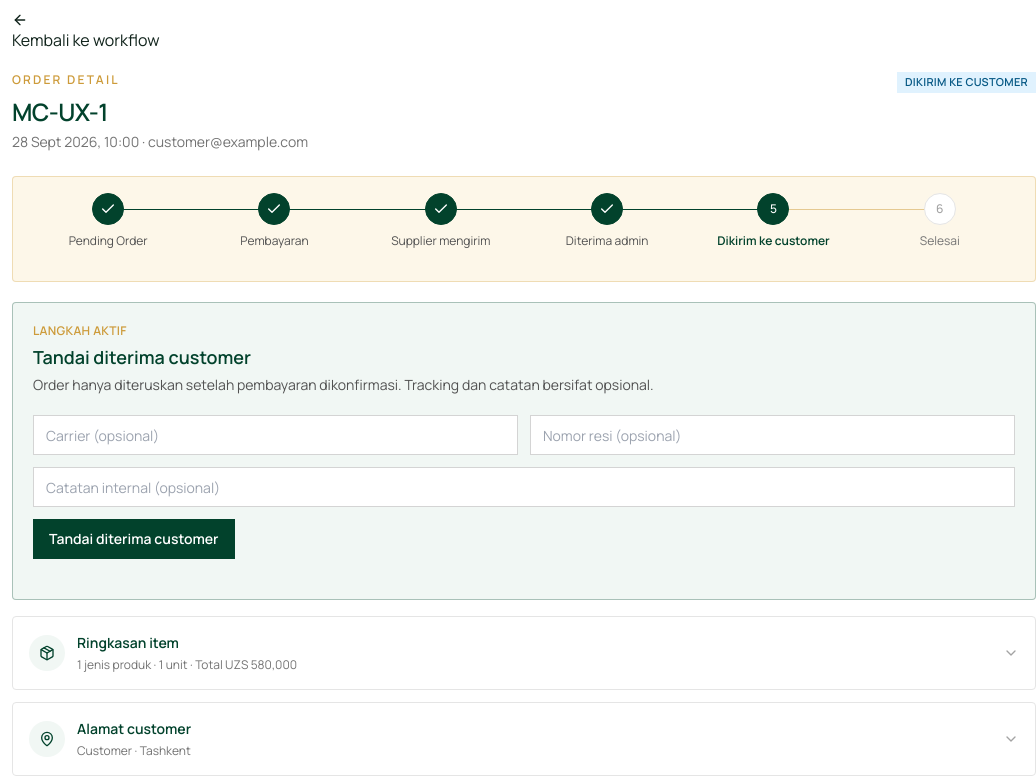
Scenario: customer delivery stays in its stage until receipt is confirmed
Expected: the list item "5 Dikirim ke customer" is shown, left=717, top=193, right=830, bottom=249
Step 1. Click the button "Tandai diterima customer" → (134, 539), box left=33, top=519, right=234, bottom=559
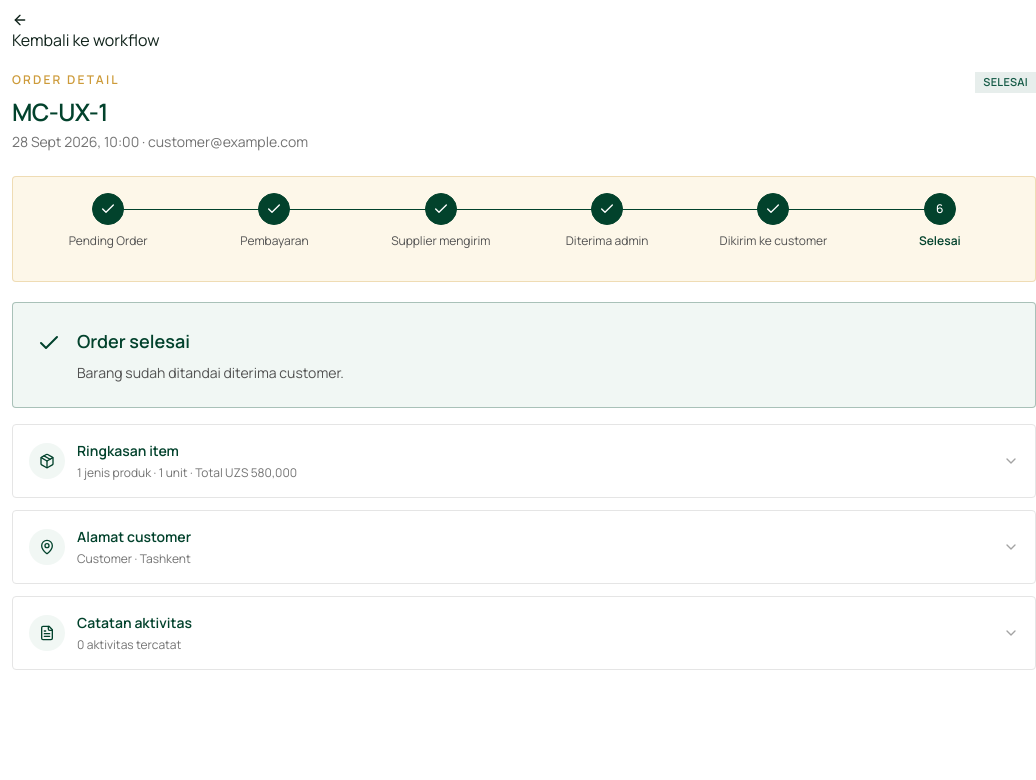
Expected: the list item "6 Selesai" is shown, left=919, top=193, right=961, bottom=249
Expected: the element with test id "active-delivered" is shown, left=12, top=302, right=1035, bottom=408
